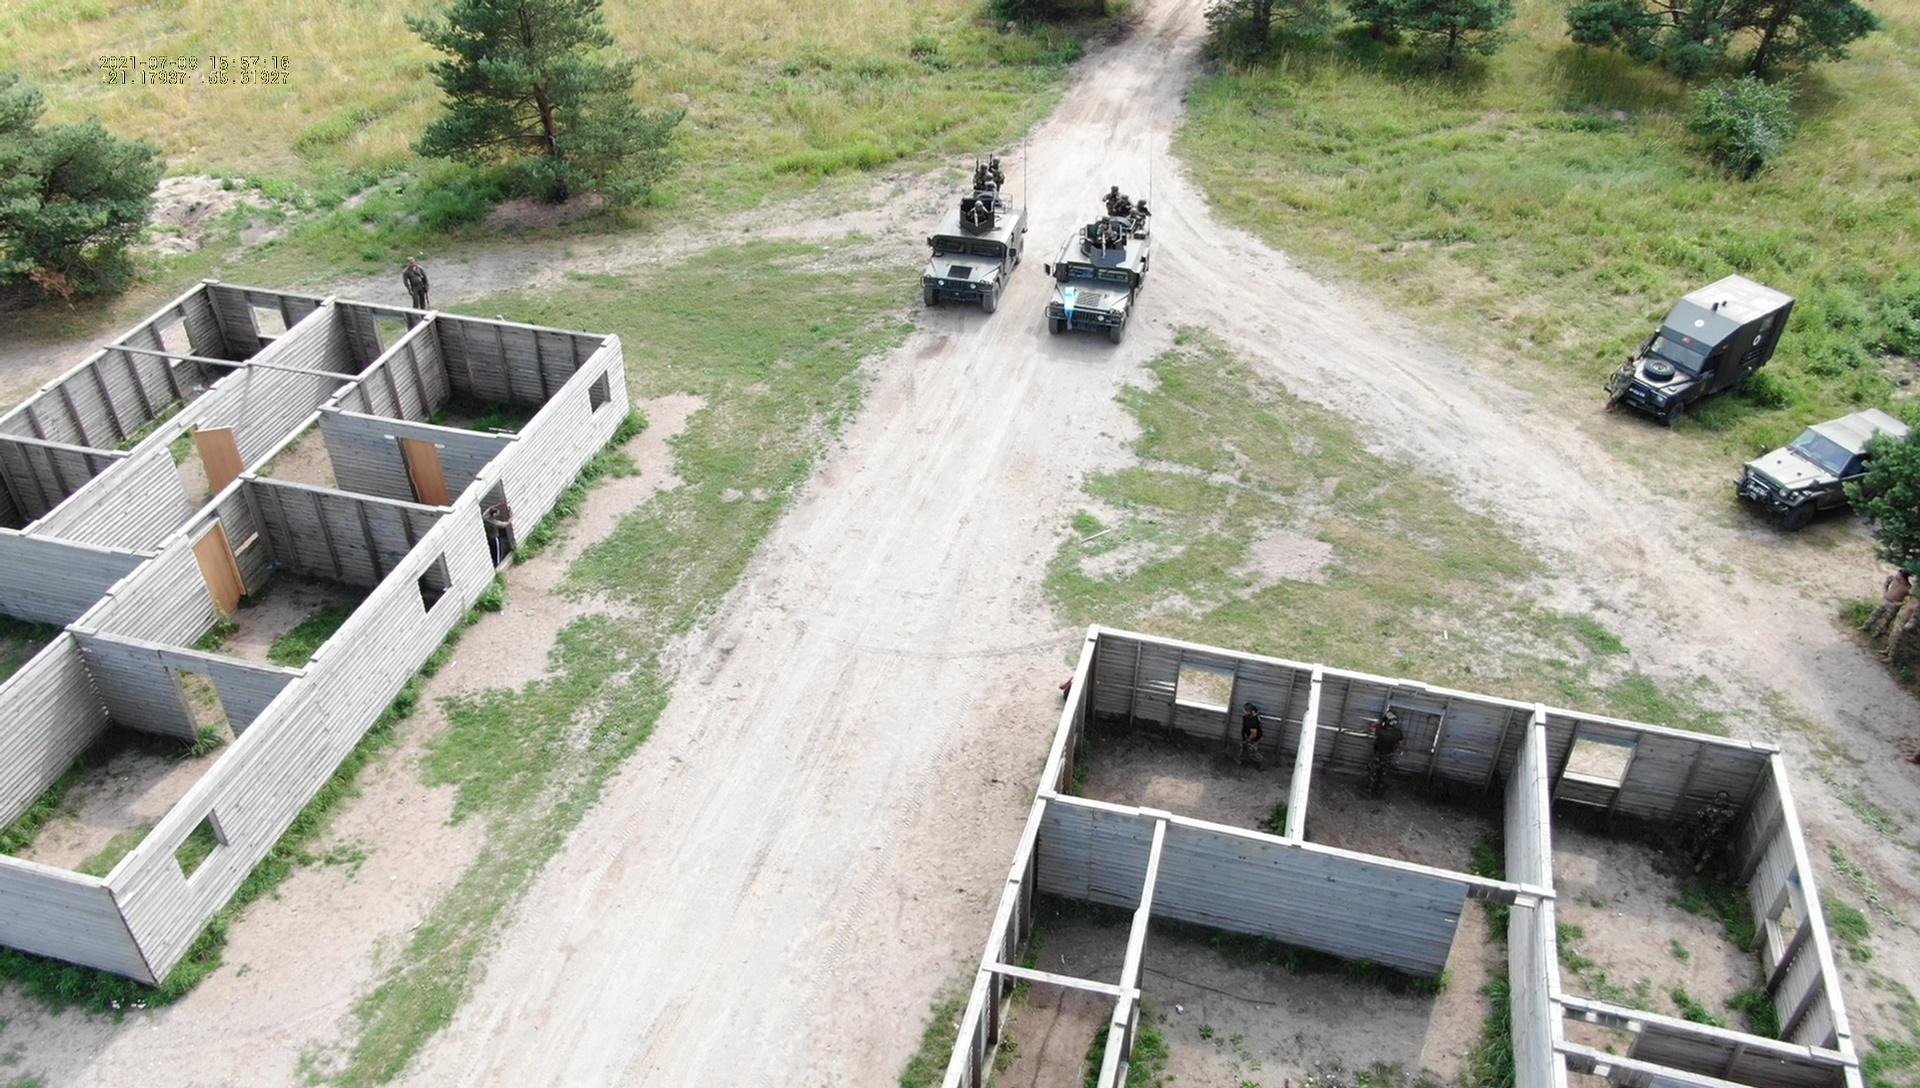Soldier: (1683, 801, 1749, 892), (1360, 712, 1411, 814), (1874, 560, 1911, 650), (1886, 589, 1919, 677), (398, 253, 438, 314), (1605, 355, 1638, 426), (1092, 222, 1126, 252), (1101, 182, 1129, 218), (989, 150, 1015, 186), (975, 160, 1001, 194), (967, 195, 992, 226)
